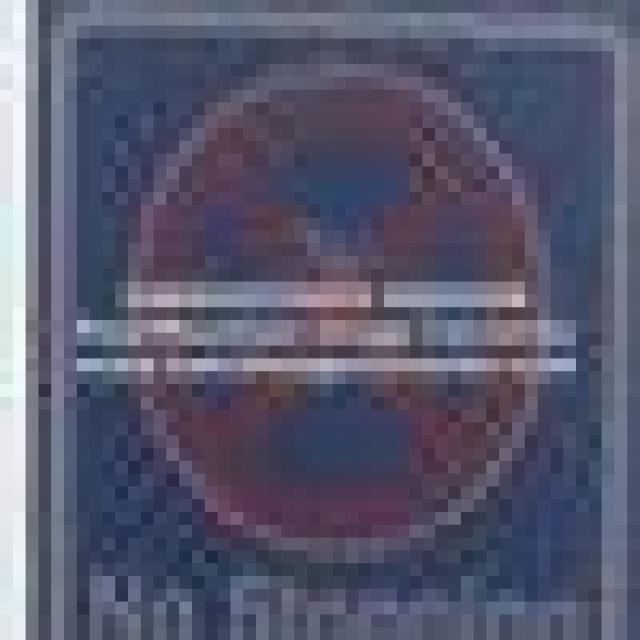no_parking: (115, 64, 550, 550)
